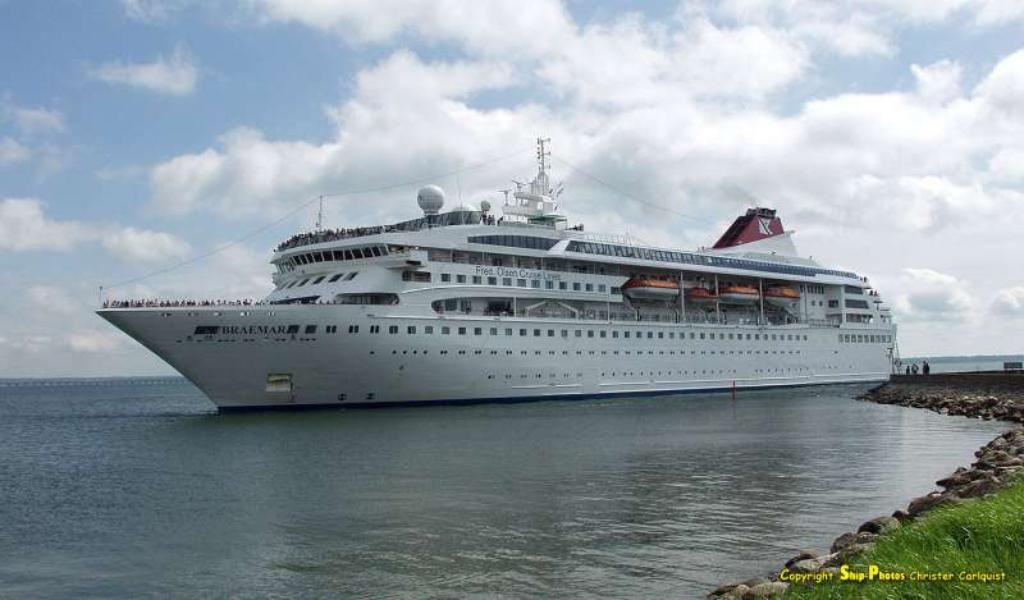PassengerShip: (91, 130, 903, 420)
